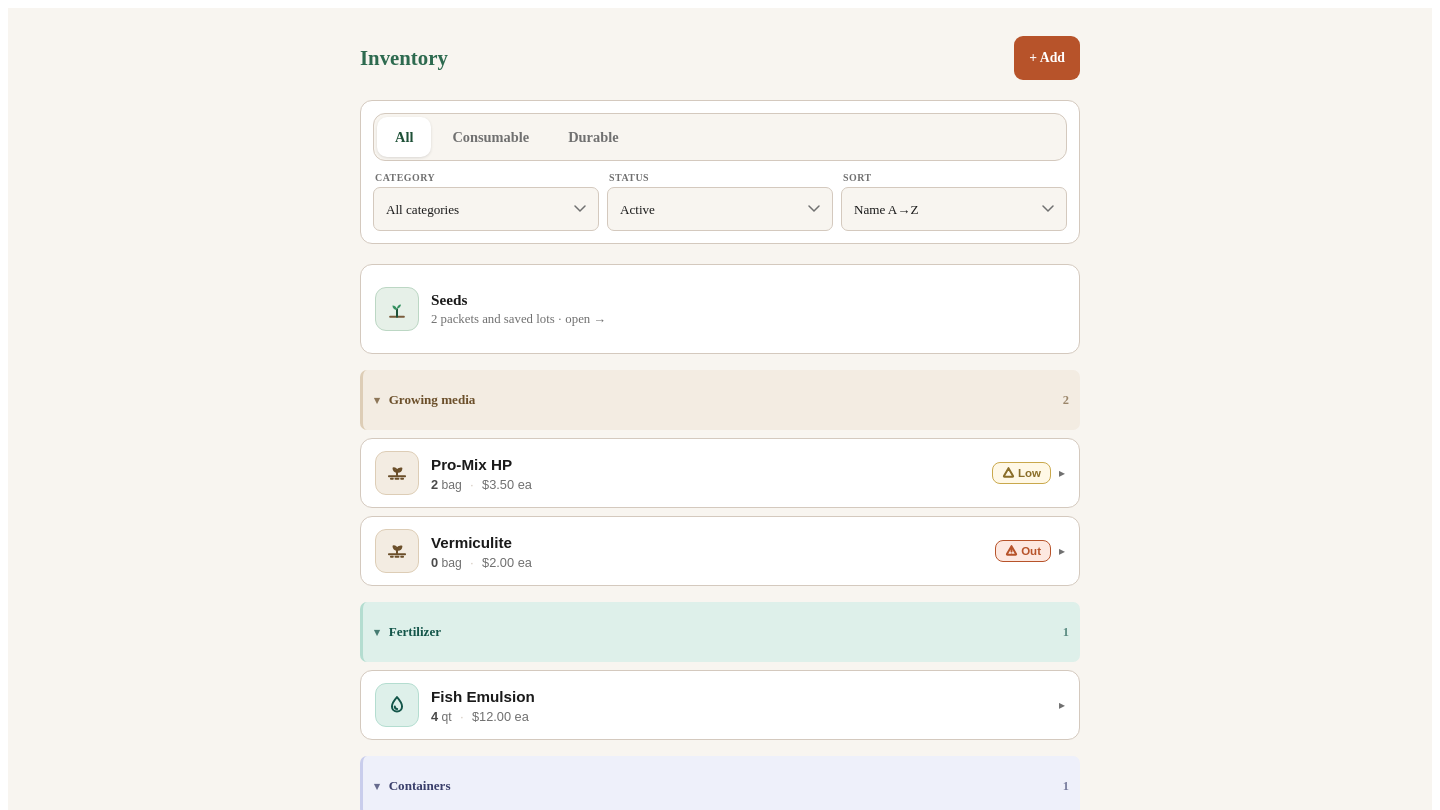
Inventory list — preserved behaviours › filters by category
The width and height of the screenshot is (1440, 810).
Expected: the heading "Inventory" is shown, x1=360 y1=46 x2=448 y2=70
Select "Growing media" in the dropdown named "Category" at (486, 209), box x1=373 y1=187 x2=599 y2=231
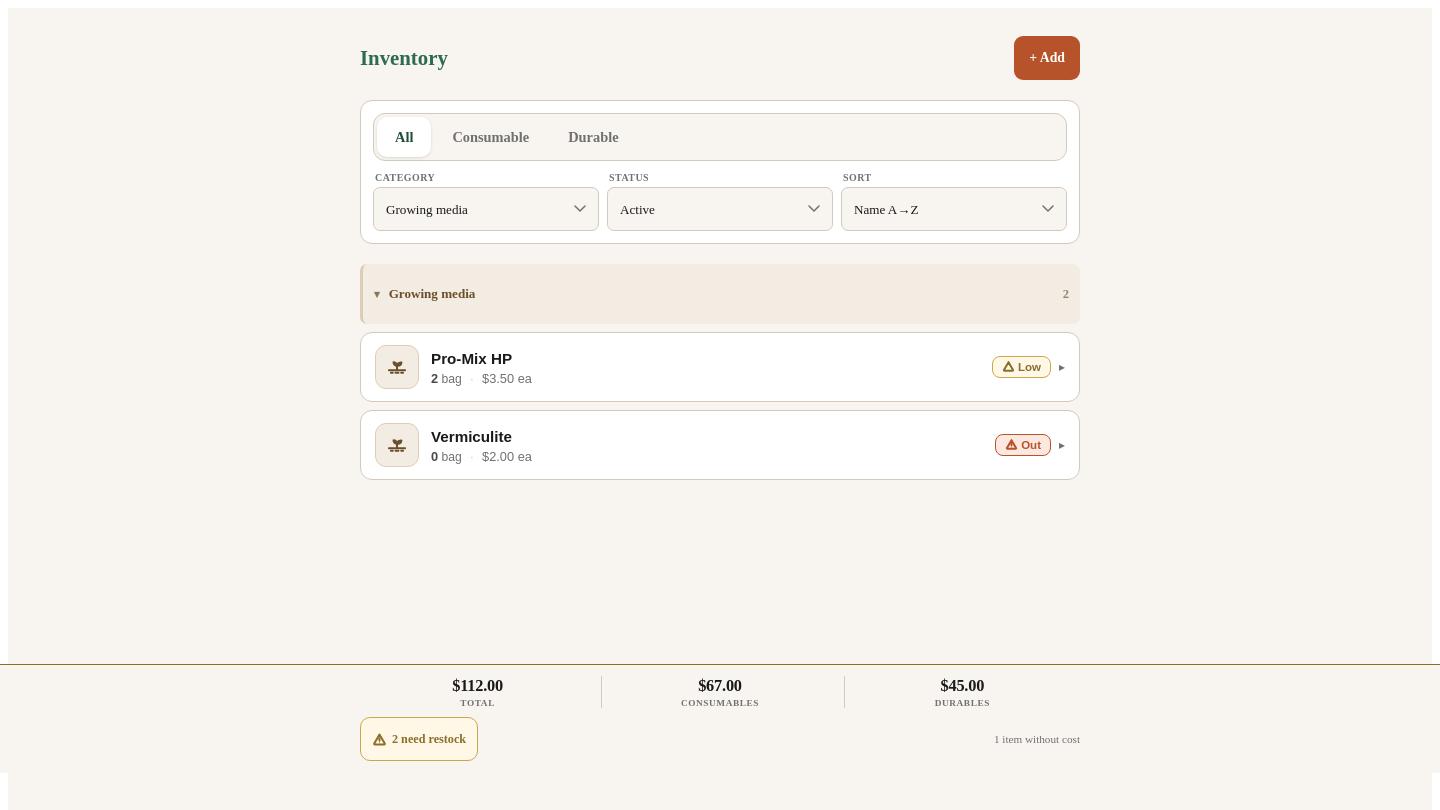
Expected: the number of elements with test id "inv-row" is 2, x1=360 y1=332 x2=1080 y2=402; x1=360 y1=410 x2=1080 y2=480
